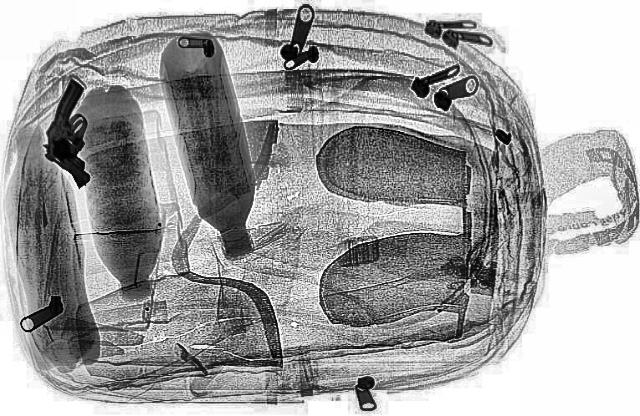Gun: (41, 78, 88, 188)
